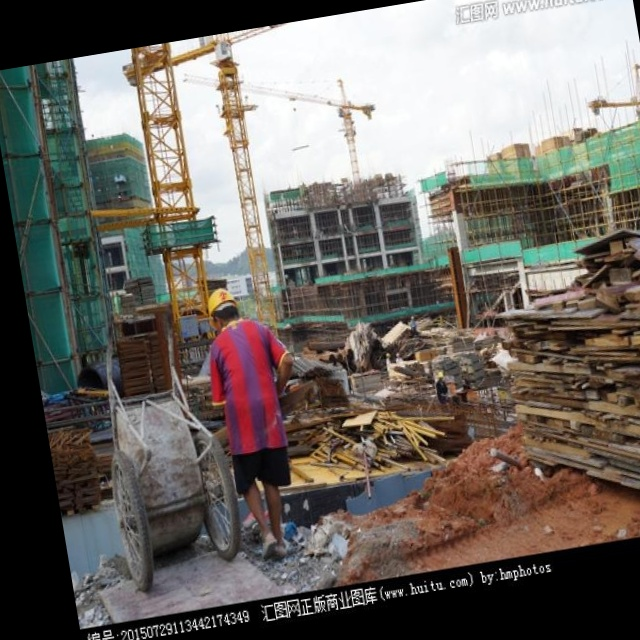Con_Casco: (204, 284, 243, 328)
